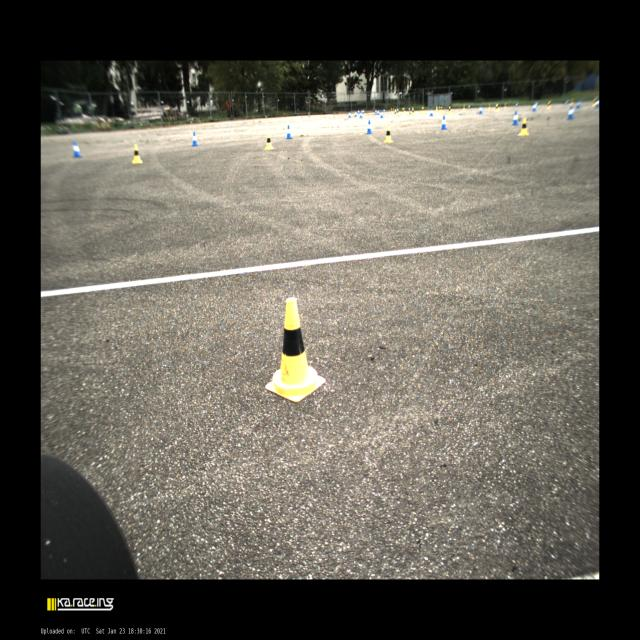blue_cone: (72, 140, 82, 158), (191, 131, 199, 146), (512, 110, 519, 125), (366, 120, 373, 134), (440, 116, 447, 130), (568, 105, 574, 120), (286, 125, 292, 139), (429, 108, 434, 116), (532, 103, 537, 111), (576, 100, 580, 109), (380, 110, 384, 118), (478, 106, 482, 114), (359, 112, 363, 118), (348, 111, 351, 118), (354, 110, 357, 117), (377, 109, 380, 115), (394, 108, 397, 114), (515, 102, 518, 108), (565, 100, 568, 105), (357, 110, 360, 114), (375, 109, 377, 114), (383, 108, 385, 113), (362, 110, 364, 114), (468, 105, 470, 109), (409, 106, 410, 112), (363, 109, 364, 113)
yellow_cone: (266, 298, 326, 402), (518, 118, 530, 136), (132, 144, 142, 163), (383, 125, 393, 143), (265, 132, 274, 150), (494, 103, 498, 112), (547, 100, 551, 109), (592, 98, 596, 106), (448, 105, 451, 114), (396, 108, 399, 115), (435, 106, 438, 112), (570, 99, 573, 105), (412, 107, 414, 115), (422, 106, 424, 114), (488, 104, 491, 109), (504, 103, 507, 108), (440, 106, 442, 113), (402, 108, 404, 114), (463, 104, 465, 110), (390, 108, 392, 113), (404, 108, 406, 113), (439, 106, 440, 112), (393, 108, 394, 113)
